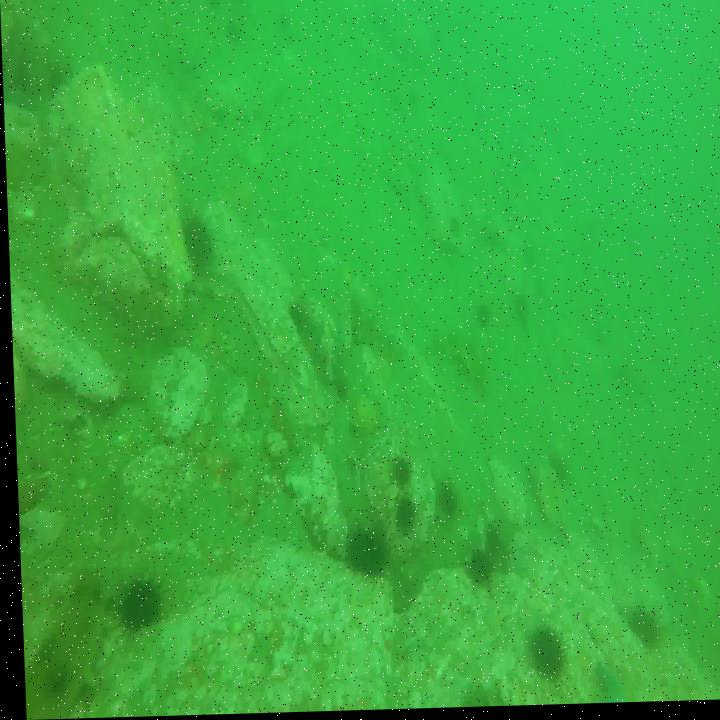echinus: (520, 626, 559, 694), (113, 579, 159, 631), (343, 527, 386, 582), (623, 608, 658, 661), (182, 220, 213, 274), (461, 549, 494, 594), (478, 522, 501, 571), (433, 487, 458, 528), (390, 499, 415, 537), (547, 455, 571, 493), (390, 459, 409, 498)
holothurian: (16, 565, 109, 719), (438, 335, 487, 402)
starfish: (587, 664, 641, 707)
